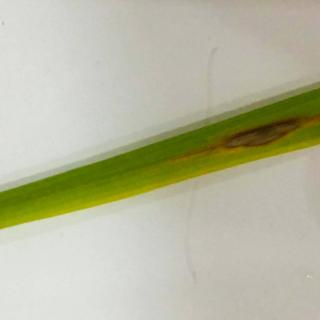Blast: (211, 105, 314, 158)
